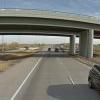Bridge: (2, 4, 93, 41)
